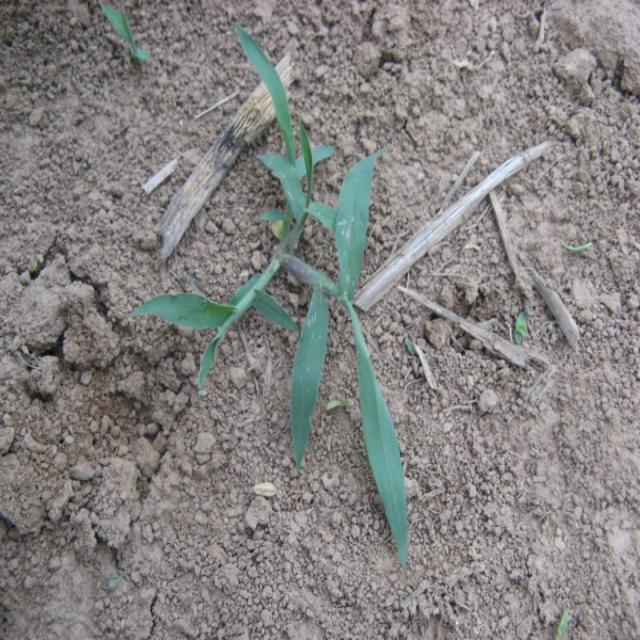bg: (134, 29, 411, 562)
